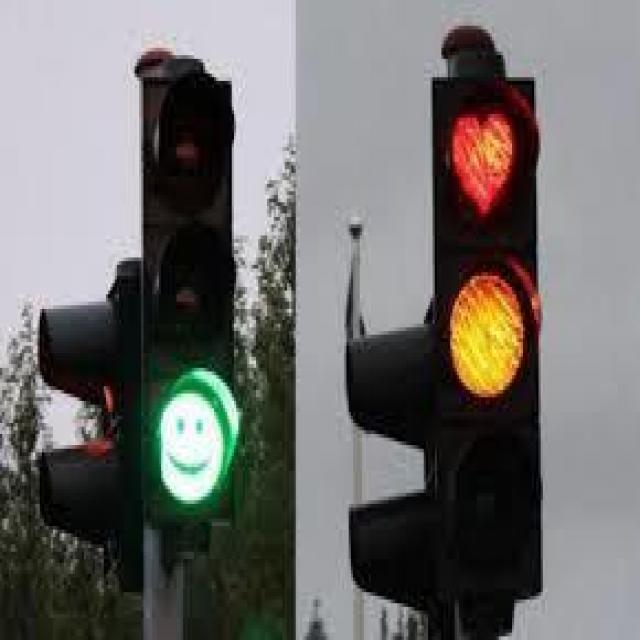yellow_light: (431, 74, 539, 589)
